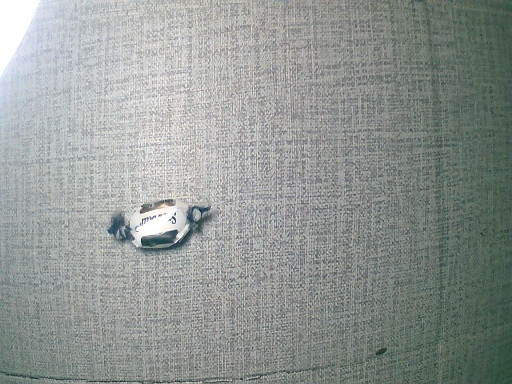plastic: (106, 201, 206, 250)
